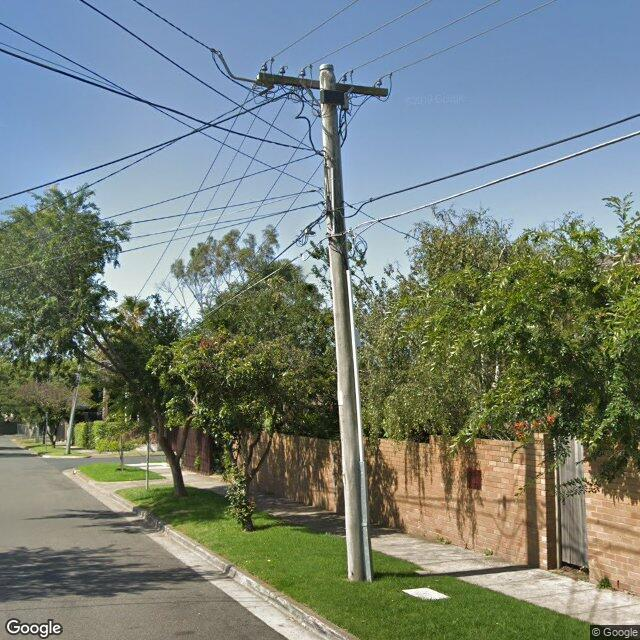crossarm: (256, 73, 388, 97)
timber-pole: (320, 63, 365, 581)
